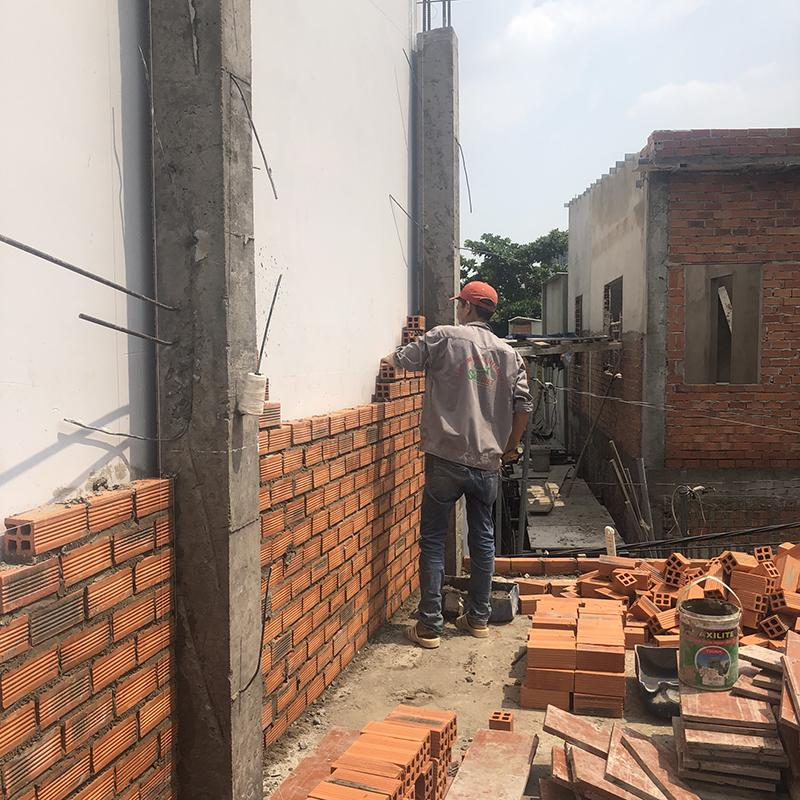Helmet: (446, 282, 497, 315)
Person: (379, 280, 533, 648)
no-boot: (452, 609, 493, 639), (400, 617, 441, 644)
no-vest: (429, 324, 519, 464)
